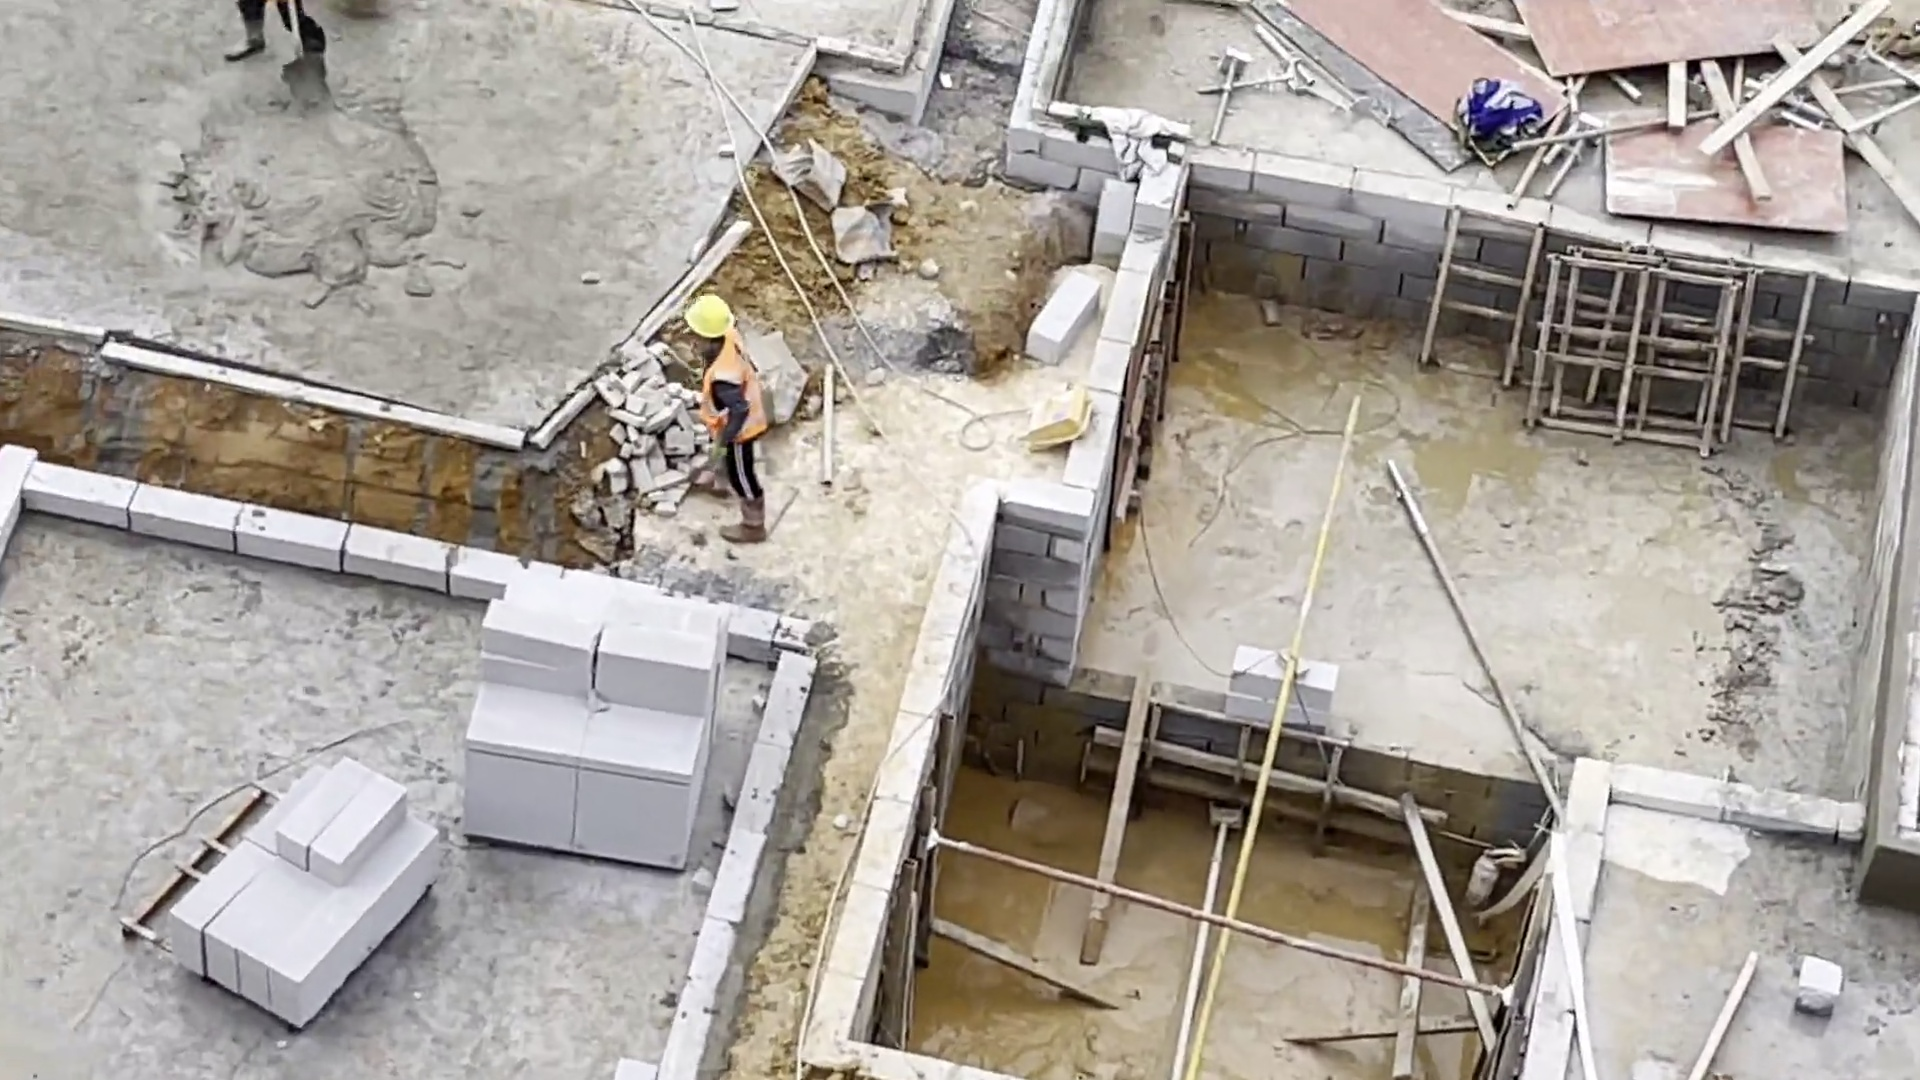brick: (453, 561, 722, 870), (162, 748, 440, 1026)
helmet: (685, 294, 738, 339)
person: (678, 288, 777, 550), (213, 1, 331, 61)
vest: (699, 337, 770, 445)
